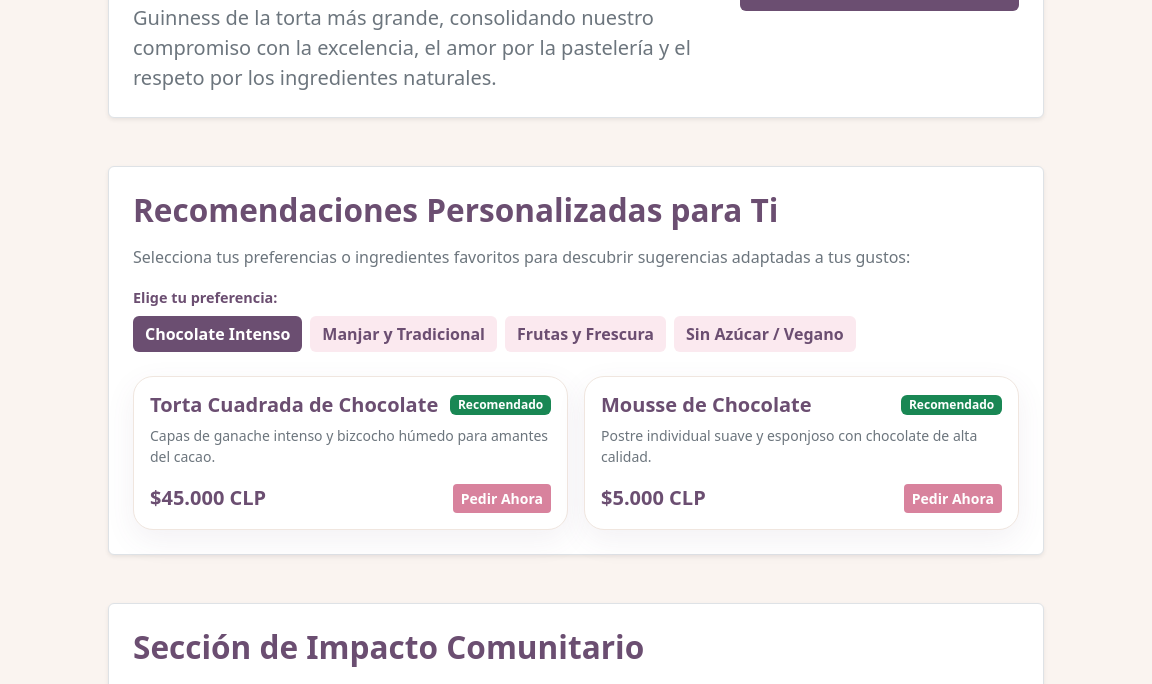
it: Pruebas unitarias para la pagina de Inicio en Pasteleria_MS › Muestra recomendaciones de Chocolate por defecto y cambia a Manjar al hacer clic
This screenshot has width=1152, height=684.
(page scrolled)
expect the text "Torta Cuadrada de Chocolate" is shown: met, box 150,393 -> 438,417
Click the button "Manjar y Tradicional" at [404, 334], box 310,316 -> 497,352
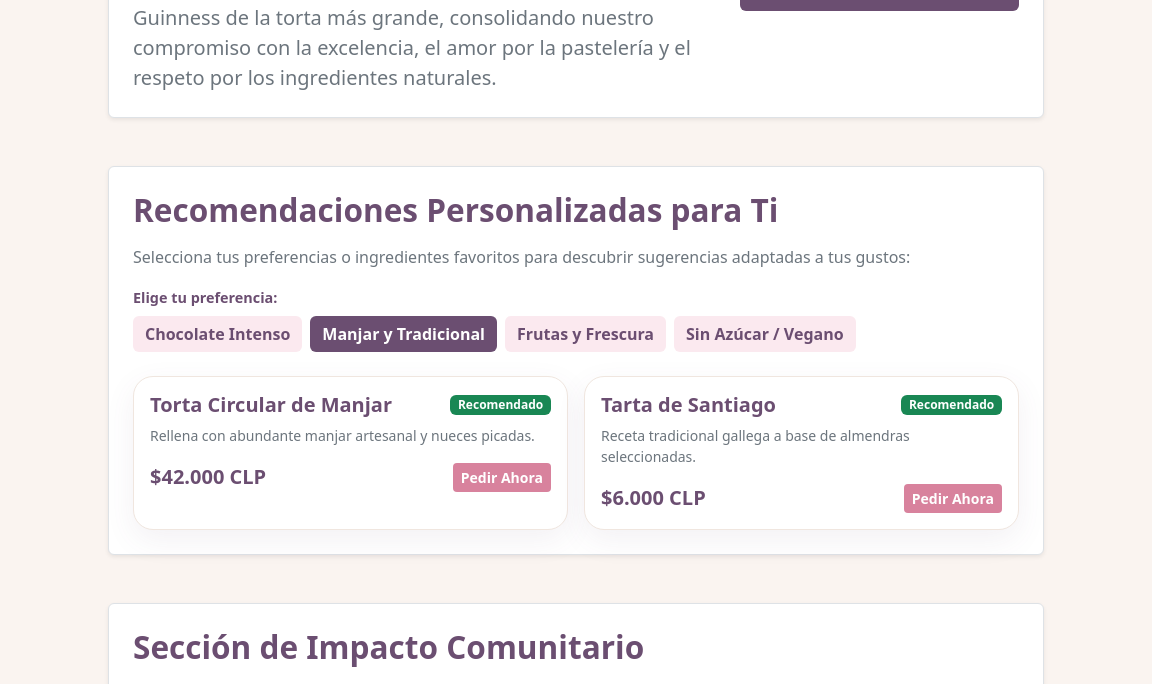
expect the text "Torta Circular de Manjar" is shown: met, box 150,393 -> 392,417
